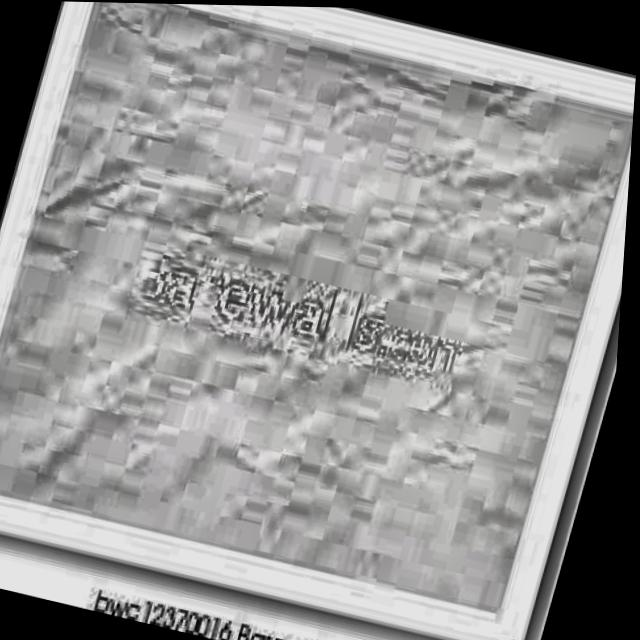Paper: (0, 0, 640, 615)
